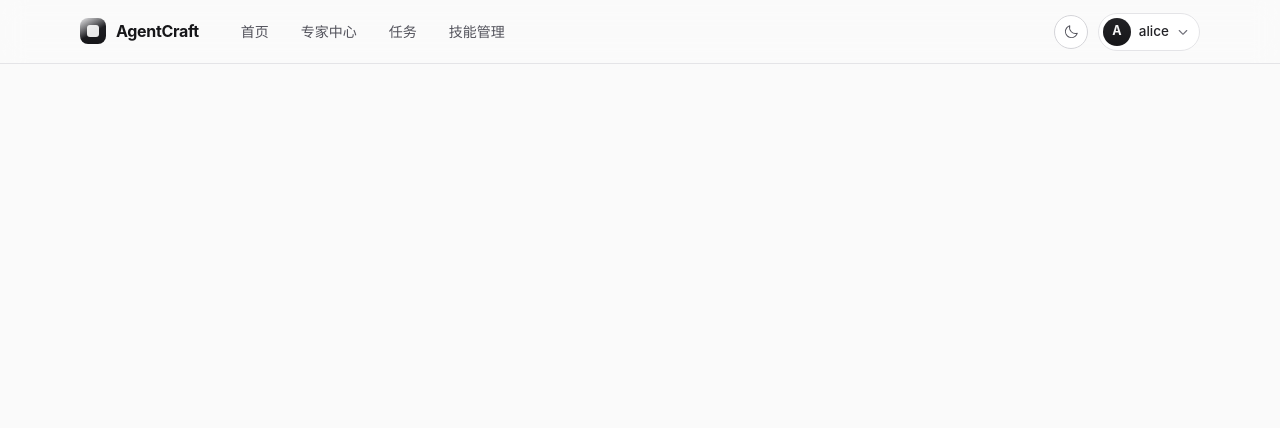
Test: isExpert 单判据：徽标与菜单统一（T14 收敛） › V2 expert_author（entitlement）：菜单含我的专家，徽标显示专家
Click the button "A alice".
click(1149, 32)  # box x1=1098 y1=12 x2=1200 y2=50
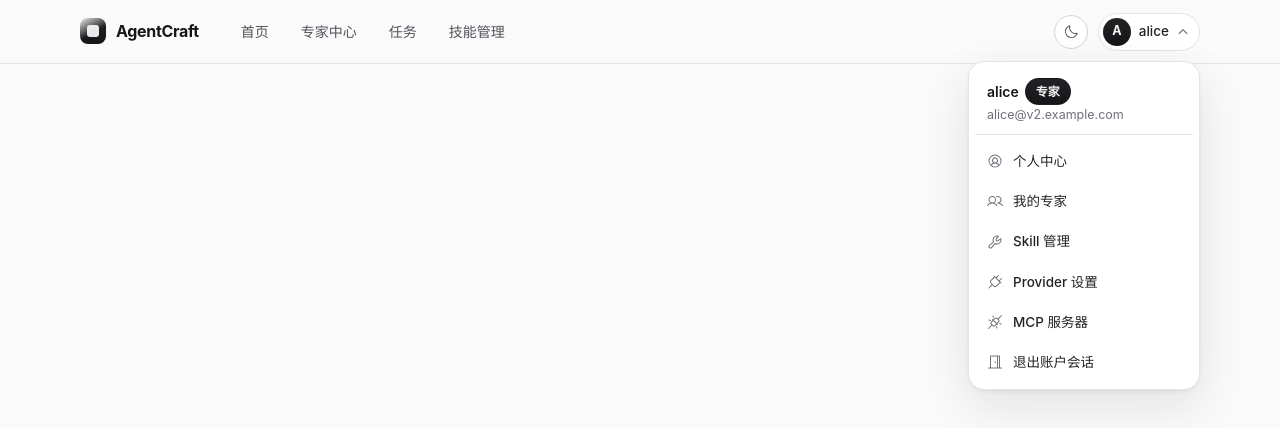
expect the menu item "我的专家" is shown: met, box x1=987 y1=193 x2=1067 y2=209
expect the text "专家" is shown: met, box x1=1025 y1=78 x2=1071 y2=105
